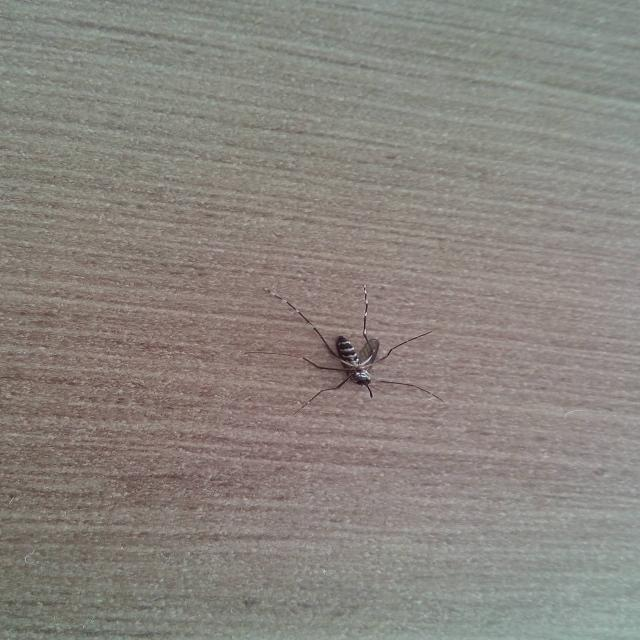albopictus: (240, 284, 450, 418)
